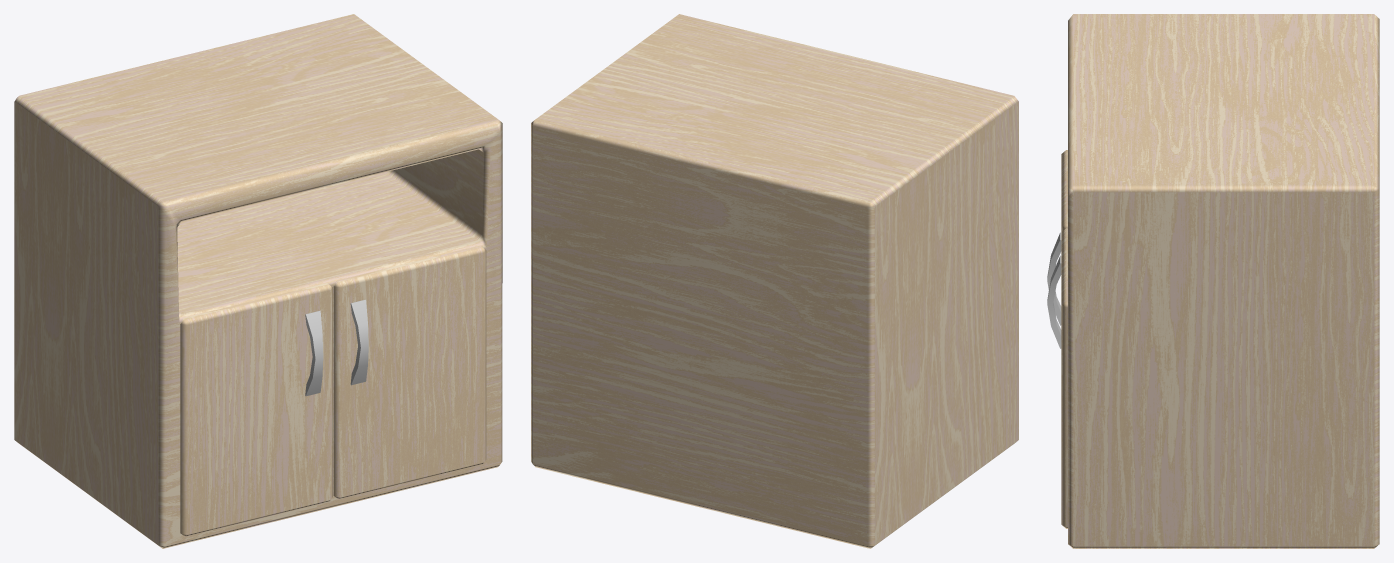
File: dresser_004.fbx
3 renders of one model, left to right at view 1: azimuth 30°, elevation 25°; view 2: azimuth 150°, elevation 25°; view 3: azimuth 270°, elevation 25°, orthographic. The views are drawn at different scales.
Parts seen in each view (by area): view 1: dresser_004; view 2: dresser_004; view 3: dresser_004.
Part boxes in pixels (x1,y1,x2,y2): dresser_004: (14, 14, 502, 548); dresser_004: (531, 14, 1018, 548); dresser_004: (1047, 14, 1379, 548).
Bounding box in the file's own units: 86.13 × 68.89 × 83.21.
